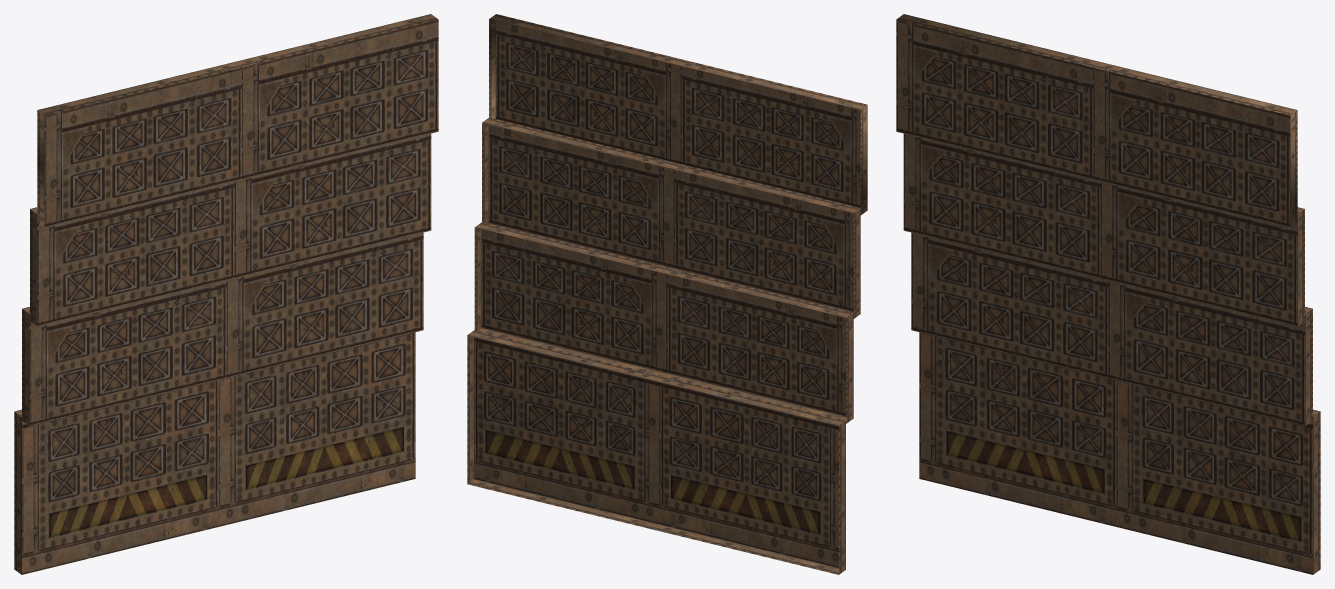
Rendered from w12dor01.obj.
The picture shows the model from 3 angles, left to right: view 1: azimuth 30°, elevation 25°; view 2: azimuth 150°, elevation 25°; view 3: azimuth 330°, elevation 25°; orthographic projection. The views are drawn at different scales.
Parts seen in each view (by area): view 1: door03_door0Shape3.001, door00_door0Shape0.001, door02_door0Shape2.001, door01_door0Shape1.001; view 2: door03_door0Shape3.001, door02_door0Shape2.001, door01_door0Shape1.001, door00_door0Shape0.001; view 3: door03_door0Shape3.001, door00_door0Shape0.001, door02_door0Shape2.001, door01_door0Shape1.001.
Part boxes in pixels (box(x1,y1,x2,y2)): door03_door0Shape3.001: box(14, 332, 415, 574); door00_door0Shape0.001: box(37, 14, 438, 227); door02_door0Shape2.001: box(22, 232, 423, 426); door01_door0Shape1.001: box(30, 133, 431, 326); door03_door0Shape3.001: box(467, 330, 845, 574); door02_door0Shape2.001: box(474, 222, 853, 423); door01_door0Shape1.001: box(482, 117, 860, 318); door00_door0Shape0.001: box(489, 14, 867, 215); door03_door0Shape3.001: box(919, 332, 1320, 574); door00_door0Shape0.001: box(896, 14, 1297, 227); door02_door0Shape2.001: box(911, 232, 1312, 426); door01_door0Shape1.001: box(903, 133, 1304, 326).
Bounding box in the file's own units: 8.11 × 9.36 × 1.09.
Materials: 1 (1 with a texture image).
